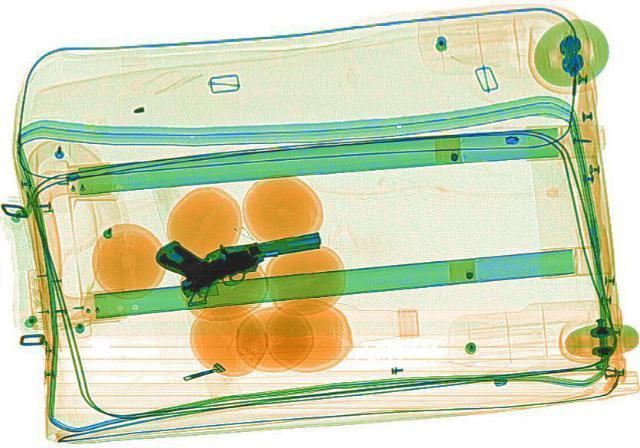Gun: (165, 226, 339, 305), (142, 217, 276, 297)
